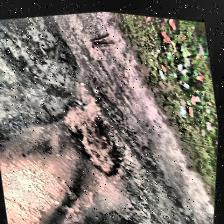pothole: (57, 88, 130, 184)
